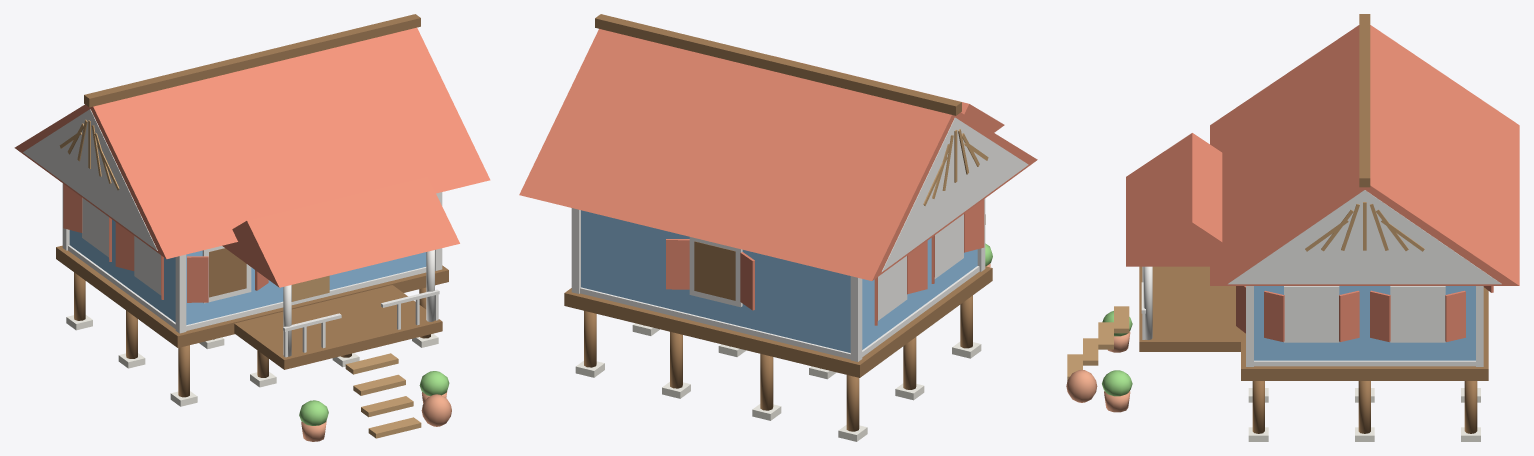
The model's file is Bld_KampungHouse.fbx.
3 renders of one model, left to right at view 1: azimuth 30°, elevation 25°; view 2: azimuth 150°, elevation 25°; view 3: azimuth 270°, elevation 25°, orthographic. The views are drawn at different scales.
Parts seen in each view (by area): view 1: Bld_KampungHouse; view 2: Bld_KampungHouse; view 3: Bld_KampungHouse.
Boxes of the visible parts, <box> form: Bld_KampungHouse: <box>14,14,490,441</box>; Bld_KampungHouse: <box>519,14,1037,441</box>; Bld_KampungHouse: <box>1066,14,1519,441</box>.
Bounding box in the file's own units: 8.8 × 7.06 × 10.25.
